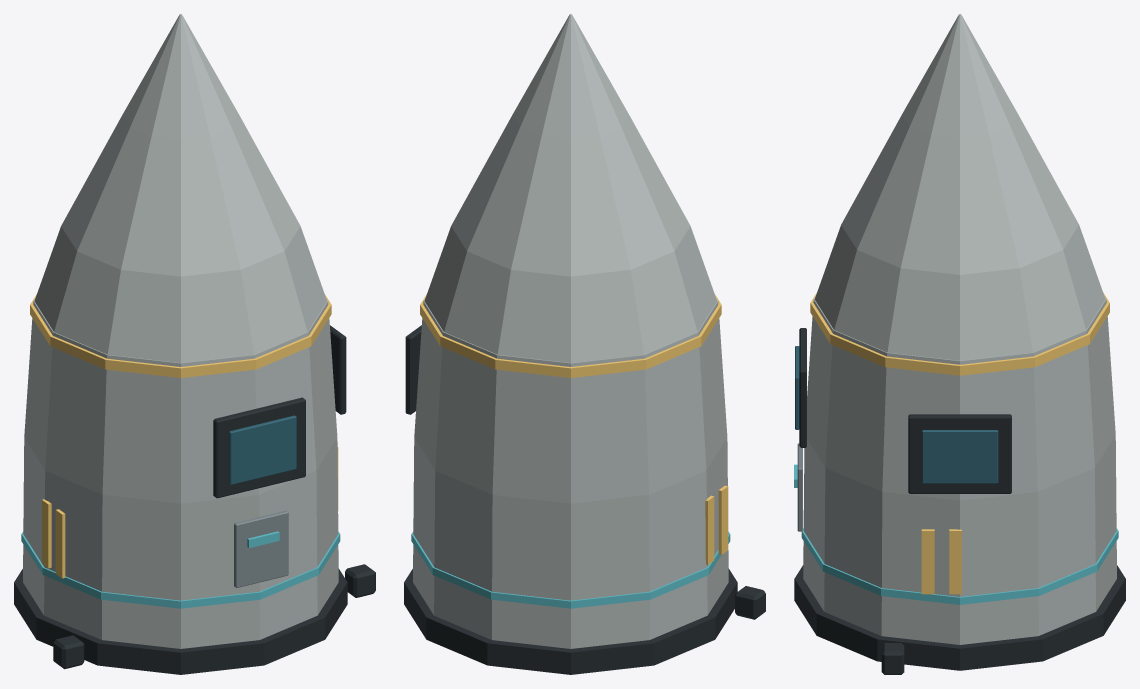
File: survey-ship-upper.glb
3 views of the same model, side by side, from view 1: azimuth 30°, elevation 25°; view 2: azimuth 150°, elevation 25°; view 3: azimuth 270°, elevation 25° (orthographic).
Visible parts, largest first — view 1: Space rocket upper stage / Survey ship ivory armor, Space rocket upper stage / Scorched graphite interiors, Space rocket upper stage / Survey ship gold identification, Space rocket upper stage / Opaque fractured cockpit glazing, Space rocket upper stage / Exposed survey ship frame, Space rocket upper stage / Survey ship cyan service lines; view 2: Space rocket upper stage / Survey ship ivory armor, Space rocket upper stage / Scorched graphite interiors, Space rocket upper stage / Survey ship gold identification, Space rocket upper stage / Survey ship cyan service lines; view 3: Space rocket upper stage / Survey ship ivory armor, Space rocket upper stage / Scorched graphite interiors, Space rocket upper stage / Survey ship gold identification, Space rocket upper stage / Opaque fractured cockpit glazing, Space rocket upper stage / Survey ship cyan service lines, Space rocket upper stage / Exposed survey ship frame.
Boxes of the visible parts, bbox=[...] form: Space rocket upper stage / Survey ship ivory armor: bbox=[23, 14, 338, 648]; Space rocket upper stage / Scorched graphite interiors: bbox=[14, 325, 375, 674]; Space rocket upper stage / Survey ship gold identification: bbox=[30, 294, 338, 578]; Space rocket upper stage / Opaque fractured cockpit glazing: bbox=[229, 415, 296, 484]; Space rocket upper stage / Exposed survey ship frame: bbox=[234, 510, 288, 587]; Space rocket upper stage / Survey ship cyan service lines: bbox=[21, 531, 340, 608]; Space rocket upper stage / Survey ship ivory armor: bbox=[413, 14, 728, 648]; Space rocket upper stage / Scorched graphite interiors: bbox=[404, 325, 765, 674]; Space rocket upper stage / Survey ship gold identification: bbox=[420, 294, 728, 564]; Space rocket upper stage / Survey ship cyan service lines: bbox=[411, 531, 730, 608]; Space rocket upper stage / Survey ship ivory armor: bbox=[803, 14, 1116, 644]; Space rocket upper stage / Scorched graphite interiors: bbox=[794, 328, 1125, 674]; Space rocket upper stage / Survey ship gold identification: bbox=[810, 292, 1109, 594]; Space rocket upper stage / Opaque fractured cockpit glazing: bbox=[795, 346, 998, 483]; Space rocket upper stage / Survey ship cyan service lines: bbox=[794, 464, 1118, 604]; Space rocket upper stage / Exposed survey ship frame: bbox=[797, 443, 802, 531].
Size of the model in its own units: 1.18 by 2.12 by 1.09.
